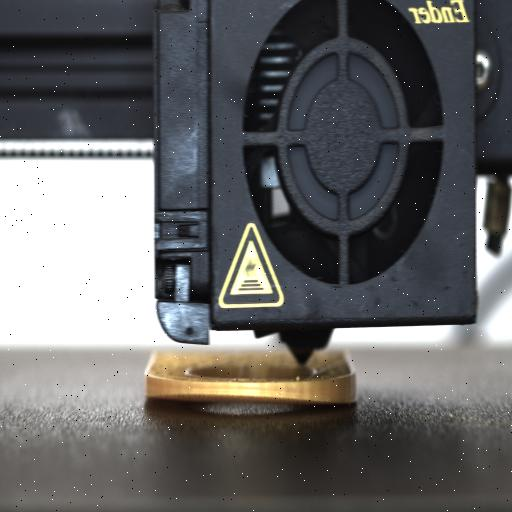warp: (143, 392, 347, 408)
